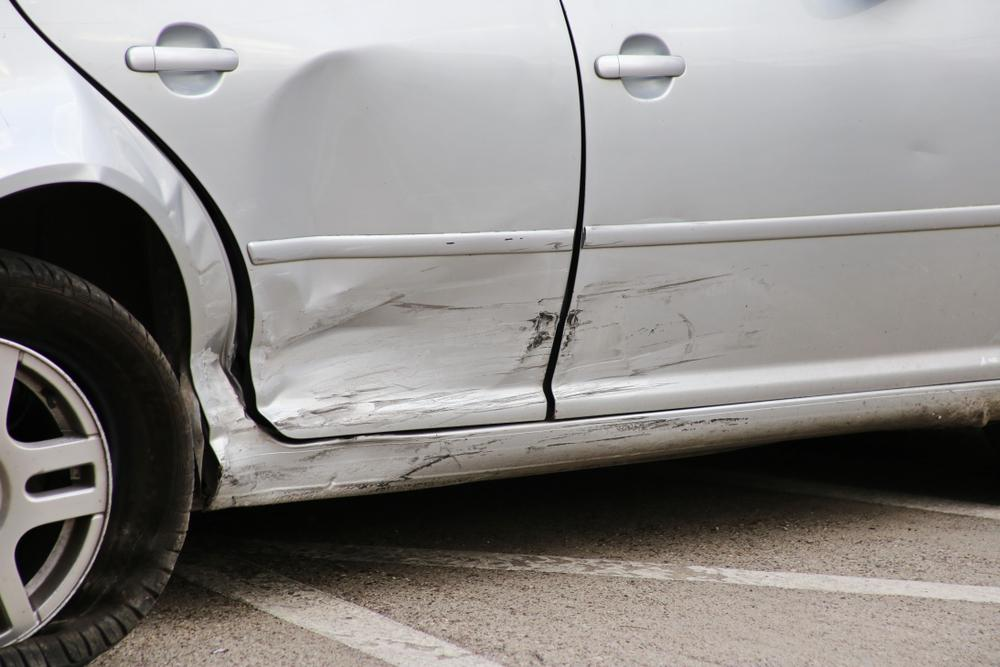dent: (240, 41, 551, 433), (95, 107, 241, 446)
scratch: (209, 418, 766, 500), (556, 268, 775, 400)
